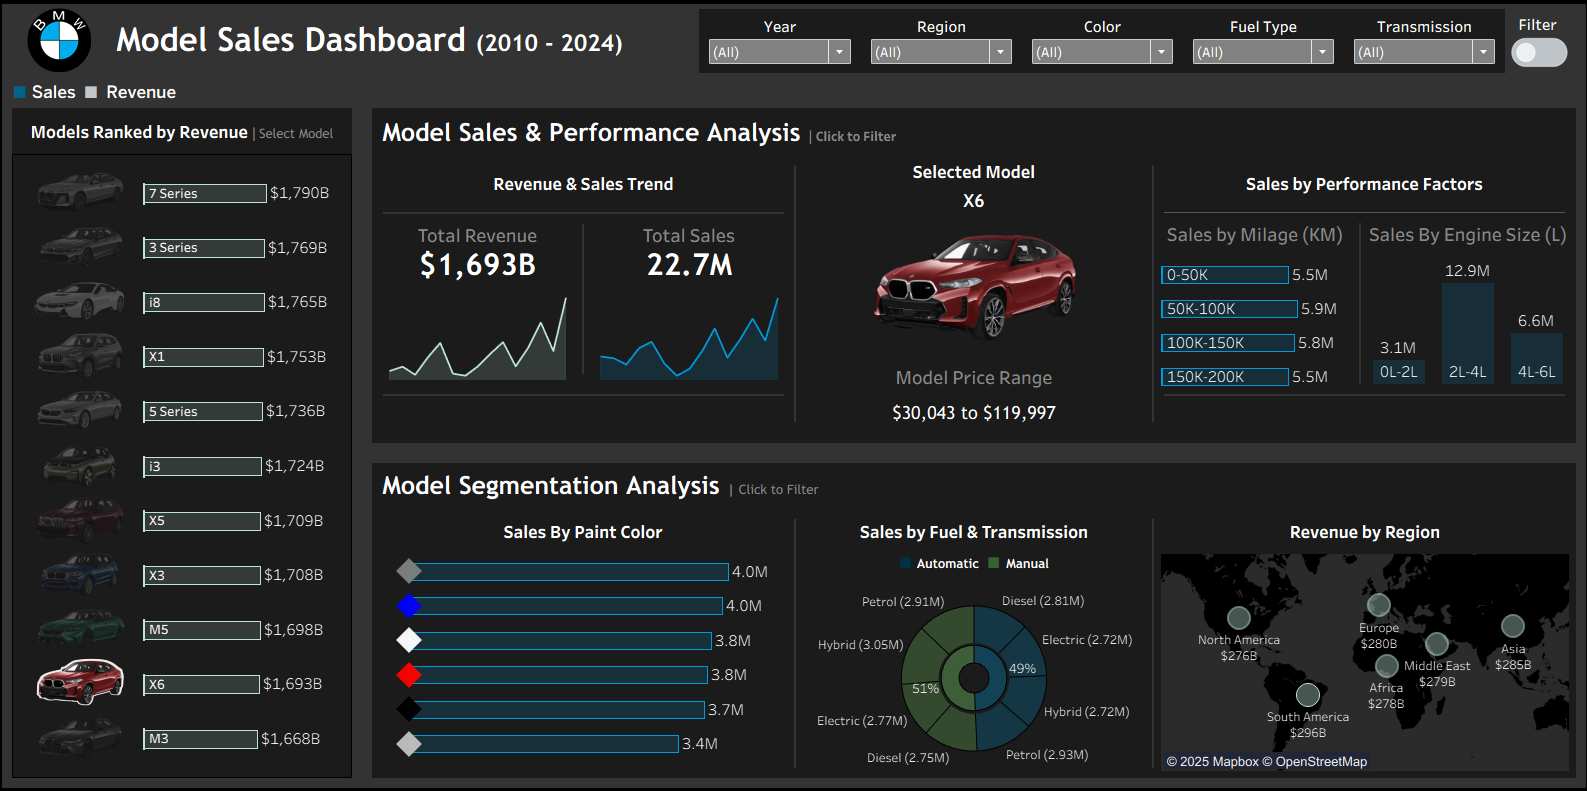

What the dashboard file says about the page in this screenshot:
{"tool":"tableau","page":{"name":"Dashboard 1","canvas":[1600,800],"ordinal":0},"visuals":[{"type":"image","param":"C:/Users/fusio/Downloads/pngimg.com - bmw_logo_PNG19713.png","box":[8,8,104,72]},{"type":"text","box":[112,8,615,72]},{"type":"blank","box":[727,8,865,72]},{"type":"filter","title":"Sheet 9","param":"[federated.0bm6xzj1tn09so12t6u0q0oolnwd].[none:Year:ok]","box":[705,13,162,64]},{"type":"filter","title":"Sheet 1","param":"[federated.0bm6xzj1tn09so12t6u0q0oolnwd].[none:Region:nk]","box":[867,13,161,64]},{"type":"filter","title":"Sheet 1","param":"[federated.0bm6xzj1tn09so12t6u0q0oolnwd].[none:Color:nk]","box":[1028,13,161,64]},{"type":"filter","title":"Sheet 1","param":"[federated.0bm6xzj1tn09so12t6u0q0oolnwd].[none:Fuel_Type:nk]","box":[1189,13,161,64]},{"type":"filter","title":"Sheet 1","param":"[federated.0bm6xzj1tn09so12t6u0q0oolnwd].[none:Transmission:nk]","box":[1350,13,161,64]},{"type":"text","box":[1521,13,51,30]},{"type":"dashboard-object","box":[1511,25,68,62]},{"type":"text","box":[8,80,1584,32]},{"type":"text","box":[8,112,360,46]},{"type":"text","box":[378,112,1204,46]},{"type":"text","box":[379,159,421,57]},{"type":"blank","box":[800,159,2,277]},{"type":"text","box":[802,159,356,32]},{"type":"blank","box":[1158,159,2,277]},{"type":"text","box":[1160,159,421,57]},{"type":"worksheet","title":"Sheet 10","mark":"Shape","rows":["Model"],"box":[26,166,119,607.9]},{"type":"worksheet","title":"Sheet 11","mark":"Bar","rows":["Model"],"cols":["Revenue","Calculation_1229482751682560024"],"box":[145,166,205,607.9]},{"type":"text","box":[802,191,356,28]},{"type":"blank","box":[379,216,421,2]},{"type":"blank","box":[1160,216,421,1]},{"type":"worksheet","title":"Sheet 6","mark":"Bar","rows":["Mileage KM (bin)"],"cols":["Calculation_1229482751230771208","Calculation_180706988699996161"],"box":[1160,217,205,181]},{"type":"blank","box":[1365,217,2,181]},{"type":"worksheet","title":"Sheet 5","mark":"Bar","rows":["Calculation_1229482751230771208","Calculation_180706988711186435"],"cols":["Engine Size L (bin)"],"box":[1367,217,213.9,181]},{"type":"worksheet","title":"Sheet 1","mark":"Line","rows":["Calculation_1229482751195717633","Calculation_1229482751195717633"],"cols":["Year"],"box":[379,218,209,170]},{"type":"blank","box":[588,218,2,170]},{"type":"worksheet","title":"Sheet 4","mark":"Automatic","rows":["Calculation_1229482751230771208","Calculation_1229482751230771208"],"cols":["Year"],"box":[590,218,210,170]},{"type":"worksheet","title":"Sheet 12","mark":"Shape","rows":["Calculation_1229482751853576218"],"box":[802,219,356,144]},{"type":"text","box":[802,363,356,35]},{"type":"blank","box":[379,388,421,10]},{"type":"blank","box":[379,398,421,2]},{"type":"worksheet","title":"Sheet 7","mark":"Line","box":[802,398,356,38]},{"type":"blank","box":[1160,398,421,2]},{"type":"blank","box":[379,400,421,36]},{"type":"blank","box":[1160,400,421,36]},{"type":"blank","box":[378,457,1204,10]},{"type":"text","box":[378,467,1204,46]},{"type":"worksheet","title":"Sheet 3","mark":"Bar","rows":["Color"],"cols":["Calculation_1229482751230771208","Calculation_1229482751222415367"],"box":[378,513,422,259]},{"type":"blank","box":[800,513,2,269]},{"type":"worksheet","title":"Sheet 8 (2)","mark":"Pie","cols":["Calculation_1229482751256264718","Calculation_1229482751256350736"],"box":[802,513,356,269]},{"type":"blank","box":[1158,513,2,269]},{"type":"worksheet","title":"Sheet 9","mark":"Circle","box":[1160,513,422,269]},{"type":"worksheet","title":"Sheet 8","mark":"Pie","cols":["Calculation_1229482751256264718","Calculation_1229482751256350736"],"box":[800,587,360,190]},{"type":"blank","box":[378,772,422,10]}]}

Visuals, with their boxes in screenshot pixels (x1, y1, x2, y2), scaled from the page's 1600x800 canvas onto the 1587x791 screenshot:
image: rect(8, 8, 111, 79)
text: rect(111, 8, 721, 79)
blank: rect(721, 8, 1579, 79)
"Sheet 9" filter: rect(699, 13, 860, 76)
"Sheet 1" filter: rect(860, 13, 1020, 76)
"Sheet 1" filter: rect(1020, 13, 1179, 76)
"Sheet 1" filter: rect(1179, 13, 1339, 76)
"Sheet 1" filter: rect(1339, 13, 1499, 76)
text: rect(1509, 13, 1559, 43)
dashboard-object: rect(1499, 25, 1566, 86)
text: rect(8, 79, 1579, 111)
text: rect(8, 111, 365, 156)
text: rect(375, 111, 1569, 156)
text: rect(376, 157, 794, 214)
blank: rect(794, 157, 795, 431)
text: rect(795, 157, 1149, 189)
blank: rect(1149, 157, 1151, 431)
text: rect(1151, 157, 1568, 214)
"Sheet 10" worksheet (Shape marks): rect(26, 164, 144, 765)
"Sheet 11" worksheet (Bar marks): rect(144, 164, 347, 765)
text: rect(795, 189, 1149, 217)
blank: rect(376, 214, 794, 216)
blank: rect(1151, 214, 1568, 215)
"Sheet 6" worksheet (Bar marks): rect(1151, 215, 1354, 394)
blank: rect(1354, 215, 1356, 394)
"Sheet 5" worksheet (Bar marks): rect(1356, 215, 1568, 394)
"Sheet 1" worksheet (Line marks): rect(376, 216, 583, 384)
blank: rect(583, 216, 585, 384)
"Sheet 4" worksheet: rect(585, 216, 794, 384)
"Sheet 12" worksheet (Shape marks): rect(795, 217, 1149, 359)
text: rect(795, 359, 1149, 394)
blank: rect(376, 384, 794, 394)
blank: rect(376, 394, 794, 396)
"Sheet 7" worksheet (Line marks): rect(795, 394, 1149, 431)
blank: rect(1151, 394, 1568, 396)
blank: rect(376, 396, 794, 431)
blank: rect(1151, 396, 1568, 431)
blank: rect(375, 452, 1569, 462)
text: rect(375, 462, 1569, 507)
"Sheet 3" worksheet (Bar marks): rect(375, 507, 794, 763)
blank: rect(794, 507, 795, 773)
"Sheet 8 (2)" worksheet (Pie marks): rect(795, 507, 1149, 773)
blank: rect(1149, 507, 1151, 773)
"Sheet 9" worksheet (Circle marks): rect(1151, 507, 1569, 773)
"Sheet 8" worksheet (Pie marks): rect(794, 580, 1151, 768)
blank: rect(375, 763, 794, 773)
